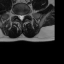CCS_normal: (20, 12, 22, 22)
LFS_normal: (24, 11, 26, 18)
LLS_normal: (22, 12, 24, 20)
RFS_normal: (16, 11, 18, 18)
RLS_normal: (18, 12, 20, 20)
